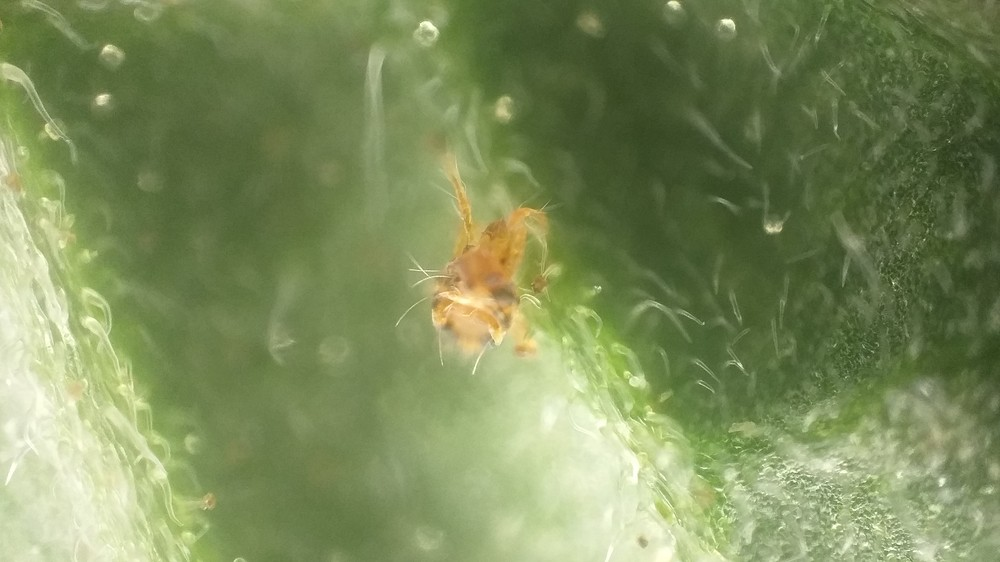Aracnido Rojo: (389, 145, 559, 395)
